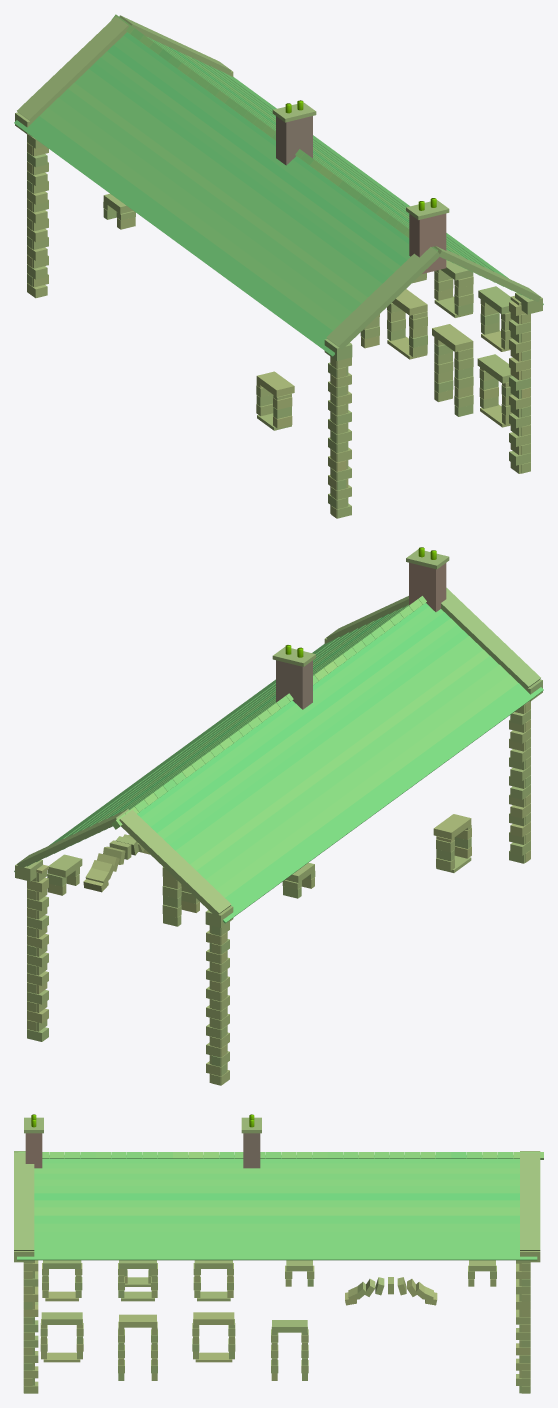
File: SM_Bld_027_Stone.glb
3 renders of one model, top to bottom at view 1: azimuth 30°, elevation 25°; view 2: azimuth 150°, elevation 25°; view 3: azimuth 270°, elevation 25°, orthographic. The views are drawn at different scales.
Parts seen in each view (by area): view 1: SM_Bld_027_Stone; view 2: SM_Bld_027_Stone; view 3: SM_Bld_027_Stone.
Part boxes in pixels (x1,y1,x2,y2): SM_Bld_027_Stone: [14, 14, 543, 518]; SM_Bld_027_Stone: [14, 547, 543, 1085]; SM_Bld_027_Stone: [14, 1114, 543, 1393].
Size of the model in its own units: 7.11 by 9.3 by 18.85.
